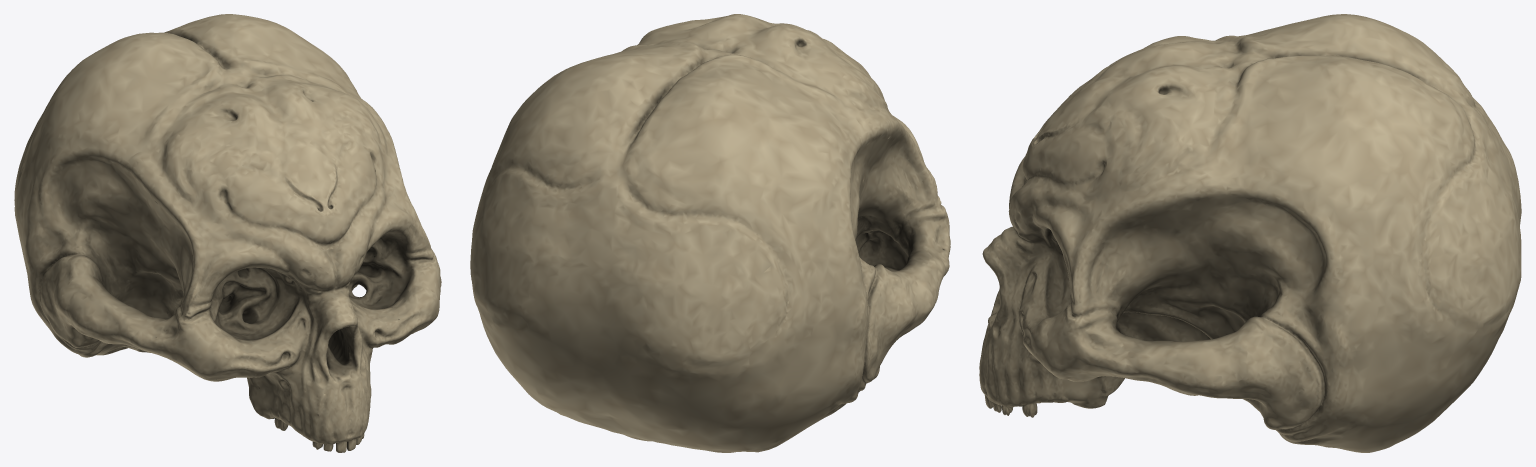
Rendered from TheEvidence_web.glb.
3 renders of one model, left to right at view 1: azimuth 30°, elevation 25°; view 2: azimuth 150°, elevation 25°; view 3: azimuth 270°, elevation 25°, orthographic. The views are drawn at different scales.
Visible parts, largest first — view 1: Cube.012; view 2: Cube.012; view 3: Cube.012.
Boxes of the visible parts, <box> form: Cube.012: <box>14,14,441,452</box>; Cube.012: <box>470,14,950,452</box>; Cube.012: <box>979,14,1521,452</box>.
Size of the model in its own units: 1.29 by 1.1 by 1.5.
